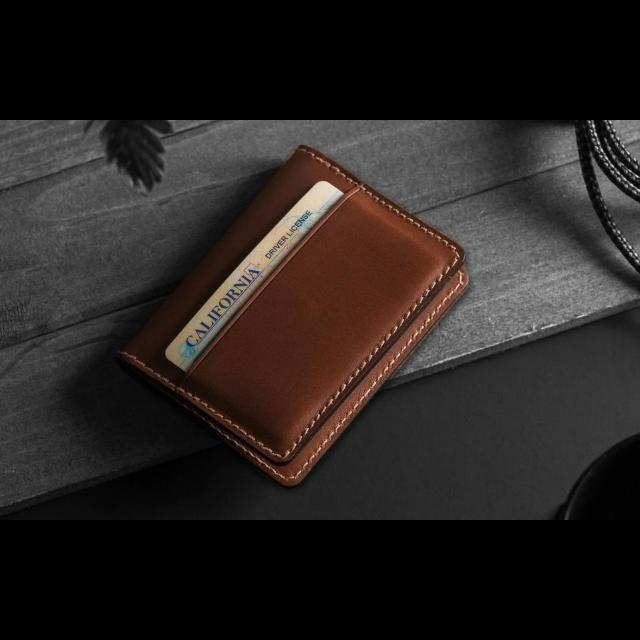Wallet: (112, 138, 472, 492)
